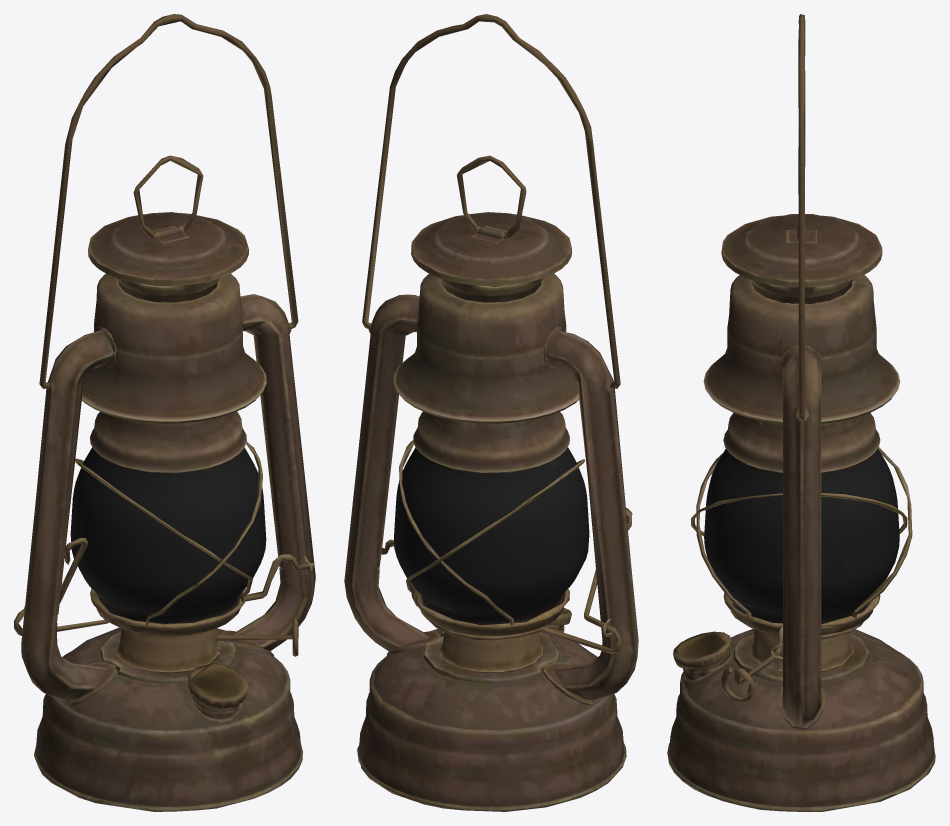
The model's file is Lantern_01.glb.
The picture shows the model from 3 angles, left to right: view 1: azimuth 30°, elevation 25°; view 2: azimuth 150°, elevation 25°; view 3: azimuth 270°, elevation 25°; orthographic projection.
Visible parts, largest first — view 1: Lantern_01, Lantern_01_glass; view 2: Lantern_01, Lantern_01_glass; view 3: Lantern_01, Lantern_01_glass.
Part boxes in pixels (bbox=[...]): Lantern_01: bbox=[14, 14, 315, 811]; Lantern_01_glass: bbox=[70, 447, 266, 623]; Lantern_01: bbox=[344, 14, 638, 811]; Lantern_01_glass: bbox=[393, 447, 589, 625]; Lantern_01: bbox=[667, 14, 935, 811]; Lantern_01_glass: bbox=[704, 448, 899, 624].
Size of the model in its own units: 0.1219 by 0.2942 by 0.0967.
Materials: 2 (2 with a texture image).
